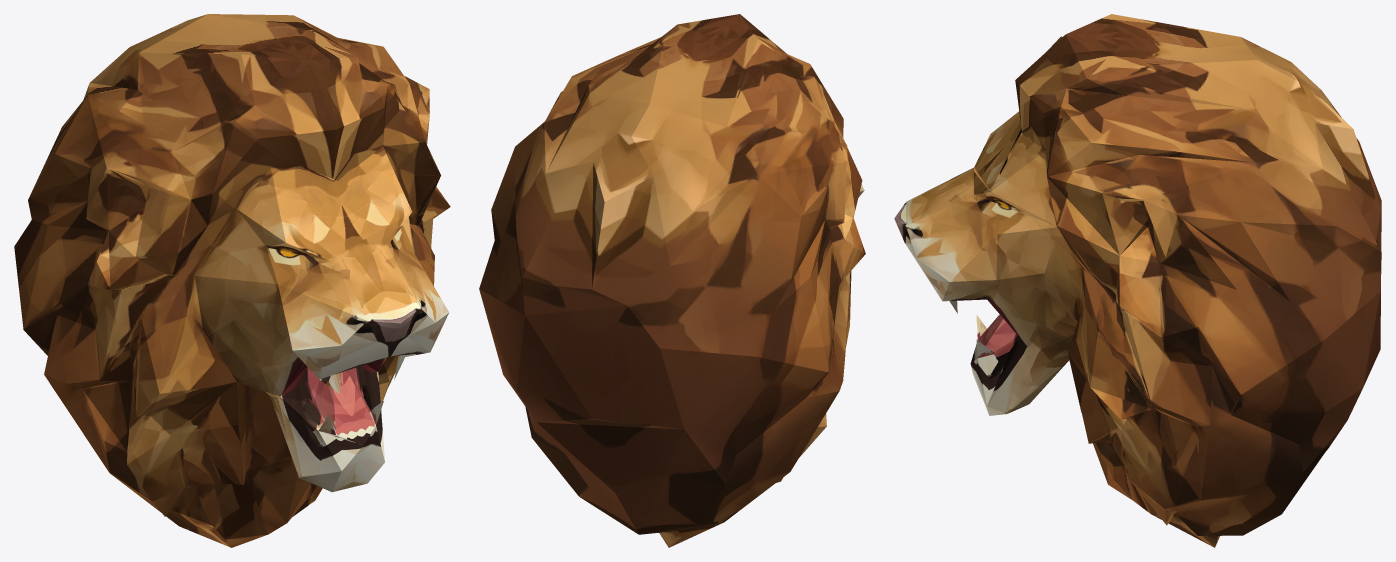
The model's file is Meshy_AI_Lowpoly_Lion_Head_Wal_1007125856_texture.fbx.
The picture shows the model from 3 angles, left to right: view 1: azimuth 30°, elevation 25°; view 2: azimuth 150°, elevation 25°; view 3: azimuth 270°, elevation 25°; orthographic projection. The views are drawn at different scales.
Visible parts, largest first — view 1: output_unwrapped; view 2: output_unwrapped; view 3: output_unwrapped.
Part boxes in pixels (<box>): output_unwrapped: <box>14,14,450,547</box>; output_unwrapped: <box>479,14,865,547</box>; output_unwrapped: <box>894,14,1381,547</box>.
Size of the model in its own units: 140 by 189 by 162.
Materials: 1 (1 with a texture image).
